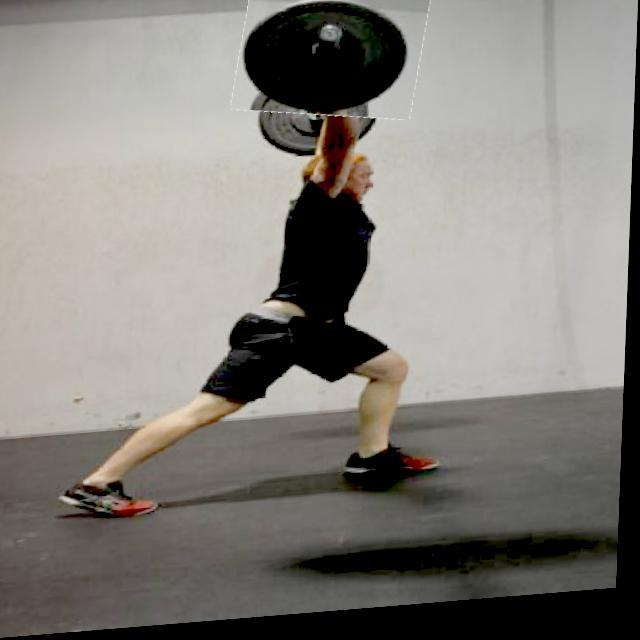barbell: (236, 1, 429, 133)
